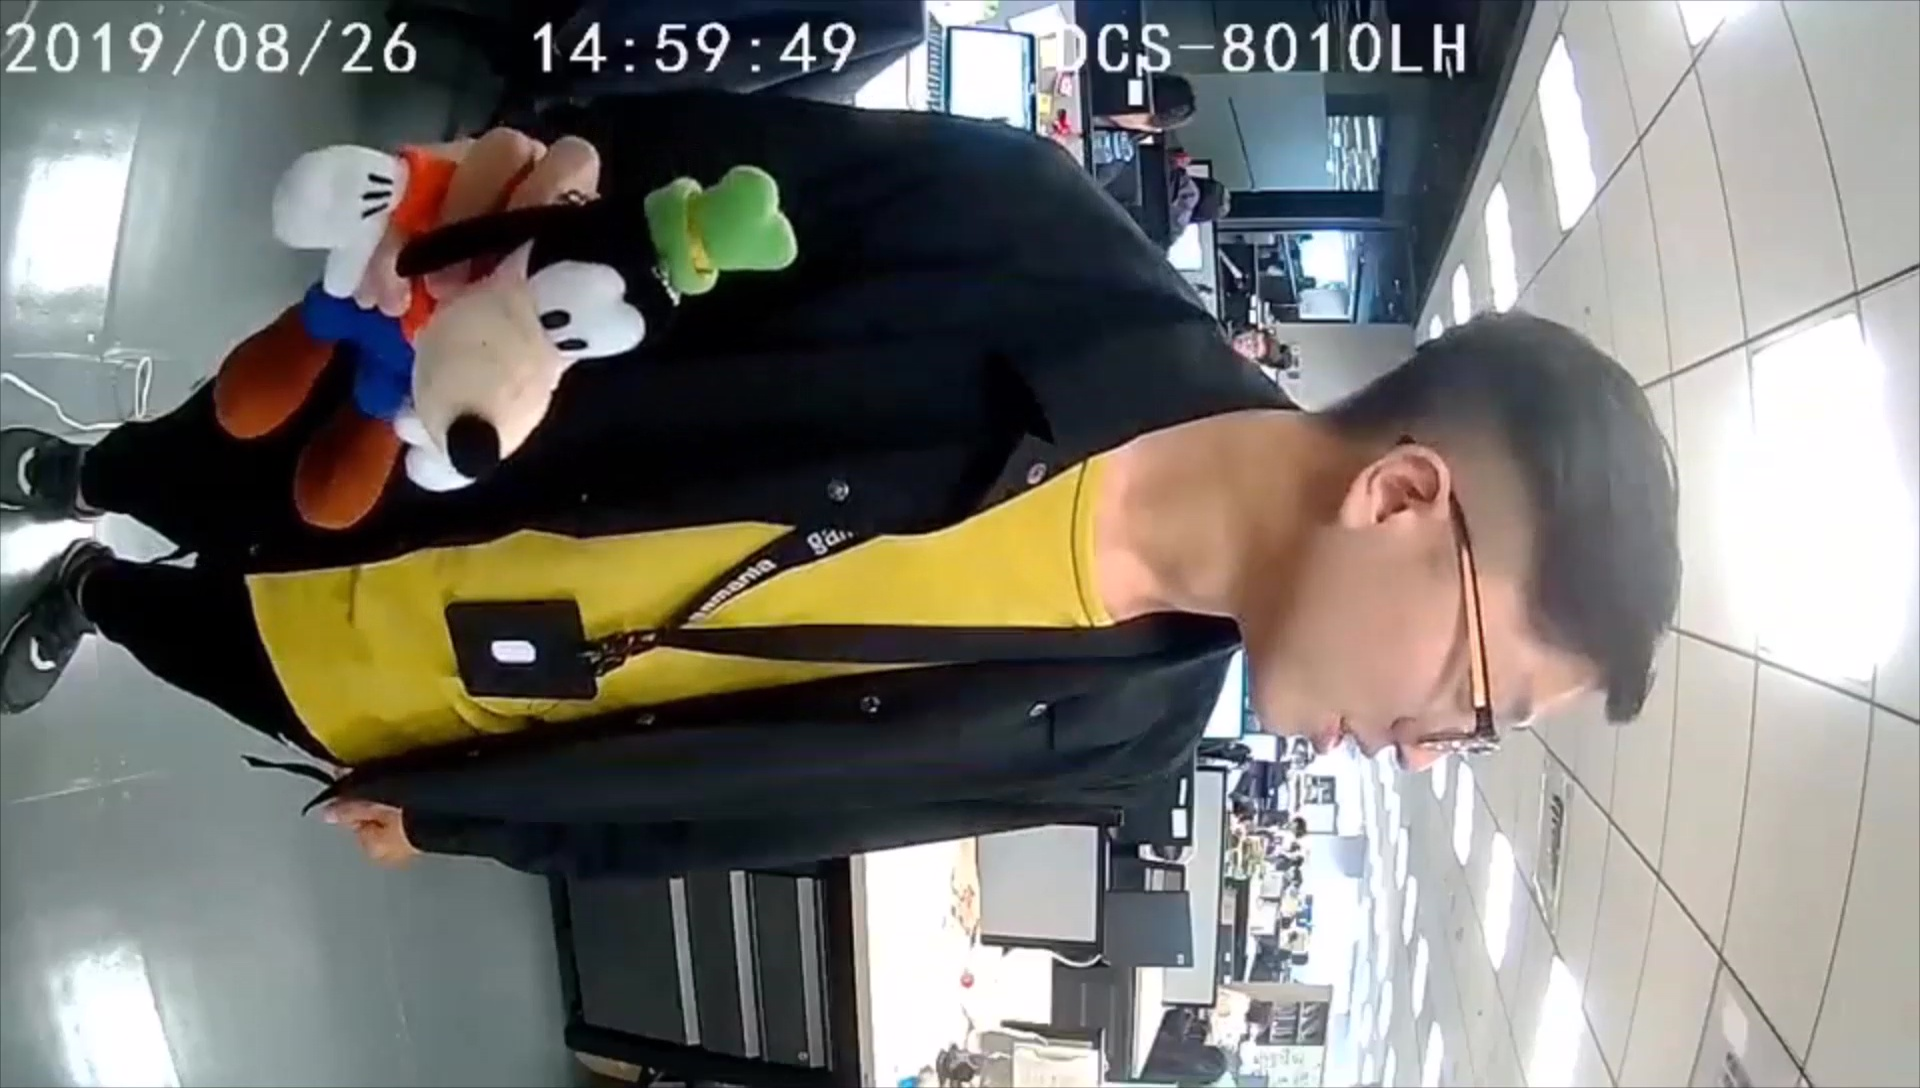goofy: (218, 142, 796, 528)
